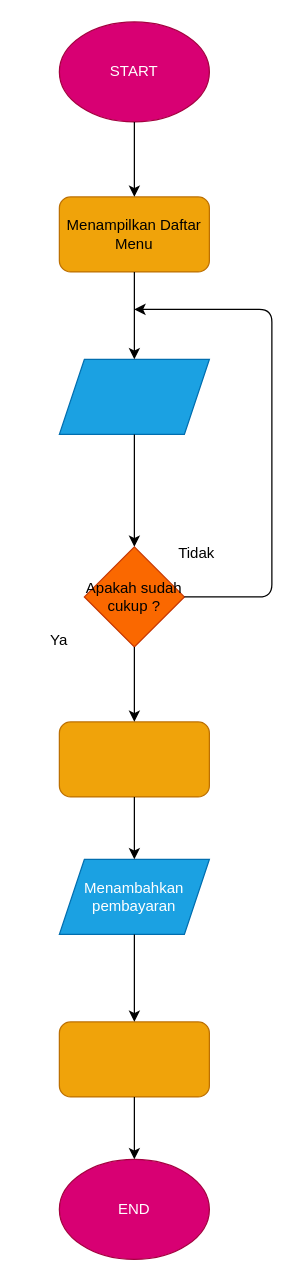
Some shapes in this 304 by 1281 pixel diagram are drawn without their labels. Each missing label, with the centre of its shape:
"Menambahkan Menu" goes at [133,396].
"Menampilkan metode pembayaran" goes at [133,759].
"Menampilkan status dipesan" goes at [133,1059].
